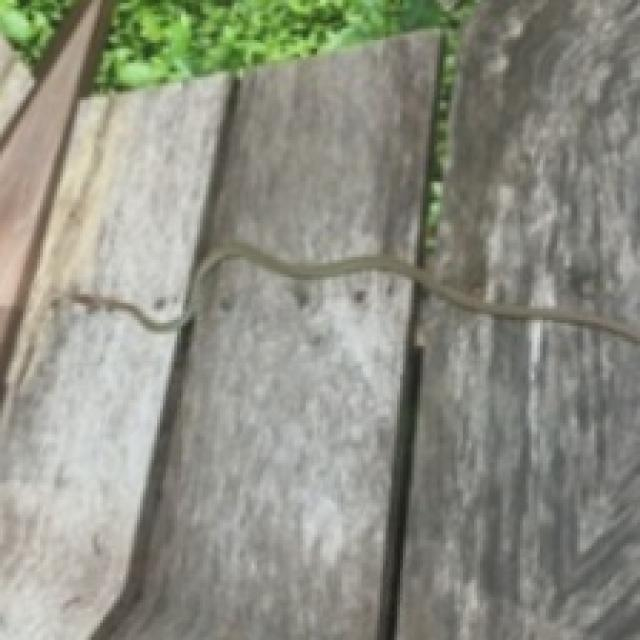paradise tree snake: (69, 240, 637, 346), (54, 240, 637, 343)
